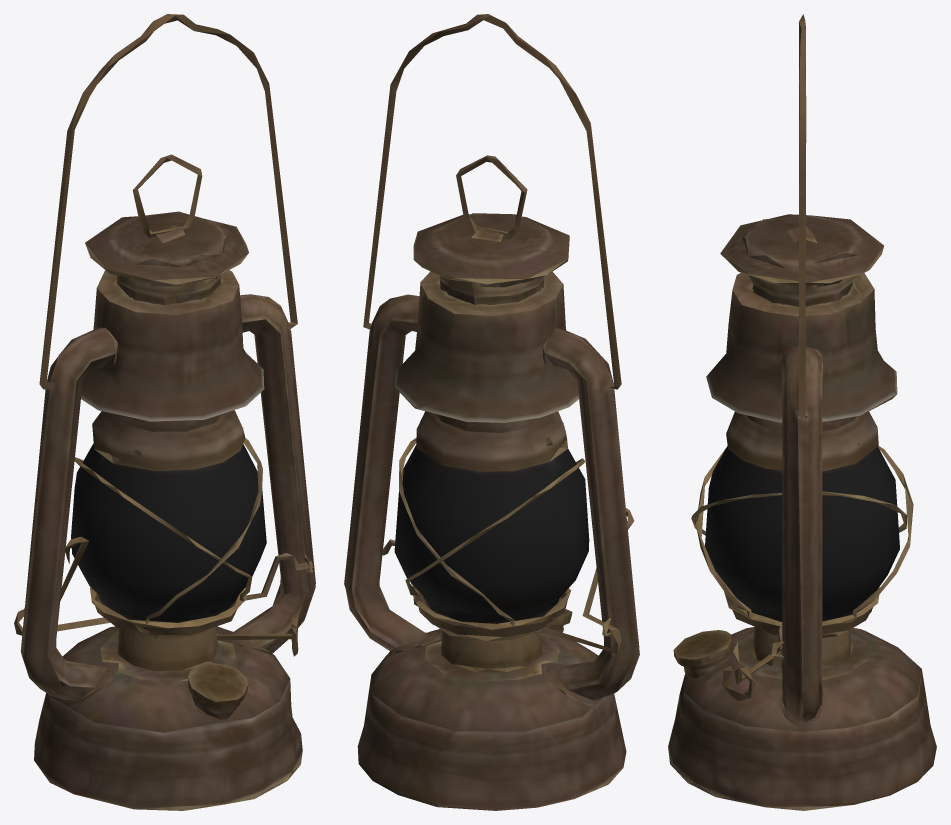
Rendered from lantern_01.glb.
3 renders of one model, left to right at view 1: azimuth 30°, elevation 25°; view 2: azimuth 150°, elevation 25°; view 3: azimuth 270°, elevation 25°, orthographic.
Visible parts, largest first — view 1: lantern_01; view 2: lantern_01; view 3: lantern_01.
Part boxes in pixels (x1,y1,x2,y2): lantern_01: [14, 14, 315, 810]; lantern_01: [344, 14, 639, 810]; lantern_01: [668, 14, 936, 810].
Bounding box in the file's own units: 0.1227 × 0.2943 × 0.0973.
Materials: 1 (1 with a texture image).
